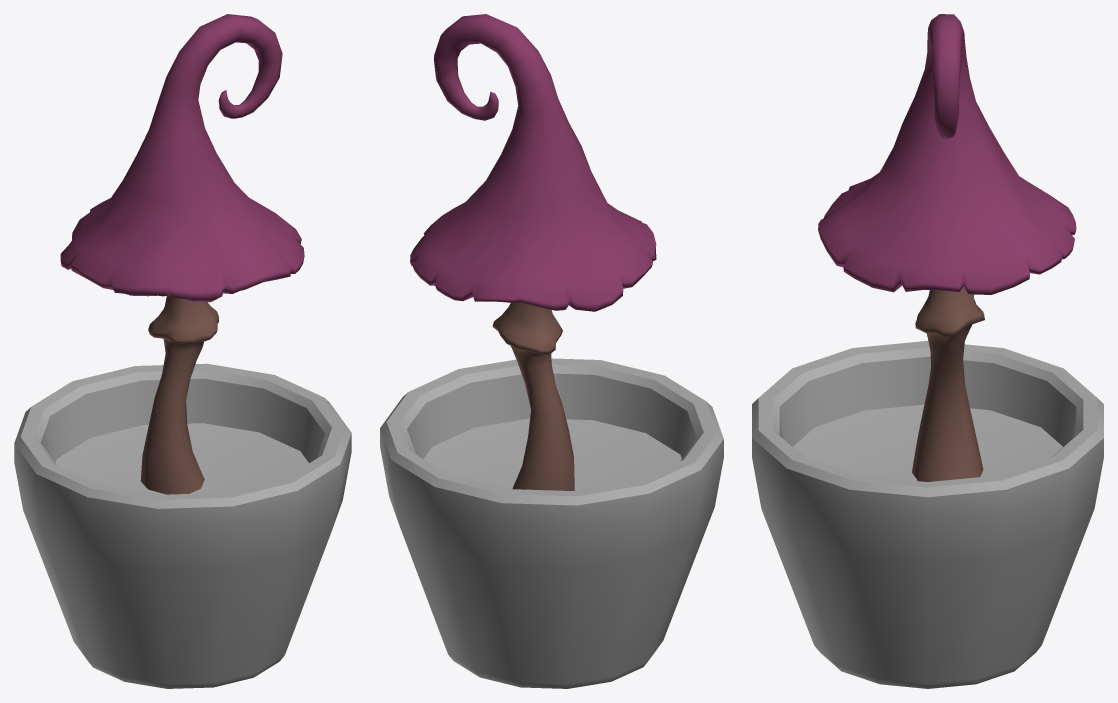
Rendered from Hatshroom.fbx.
3 renders of one model, left to right at view 1: azimuth 30°, elevation 25°; view 2: azimuth 150°, elevation 25°; view 3: azimuth 270°, elevation 25°, orthographic. The views are drawn at different scales.
Parts seen in each view (by area): view 1: pCylinder27, hatshroomcap_low, hatshroomstem_low; view 2: pCylinder27, hatshroomcap_low, hatshroomstem_low; view 3: pCylinder27, hatshroomcap_low, hatshroomstem_low.
Part boxes in pixels (x1,y1,x2,y2): pCylinder27: (14, 363, 351, 688); hatshroomcap_low: (60, 14, 304, 302); hatshroomstem_low: (140, 295, 218, 494); pCylinder27: (380, 358, 723, 688); hatshroomcap_low: (410, 14, 656, 311); hatshroomstem_low: (492, 302, 574, 490); pCylinder27: (752, 341, 1103, 688); hatshroomcap_low: (818, 14, 1076, 294); hatshroomstem_low: (912, 287, 984, 481).
Bounding box in the file's own units: 0.1524 × 0.3042 × 0.1486.
